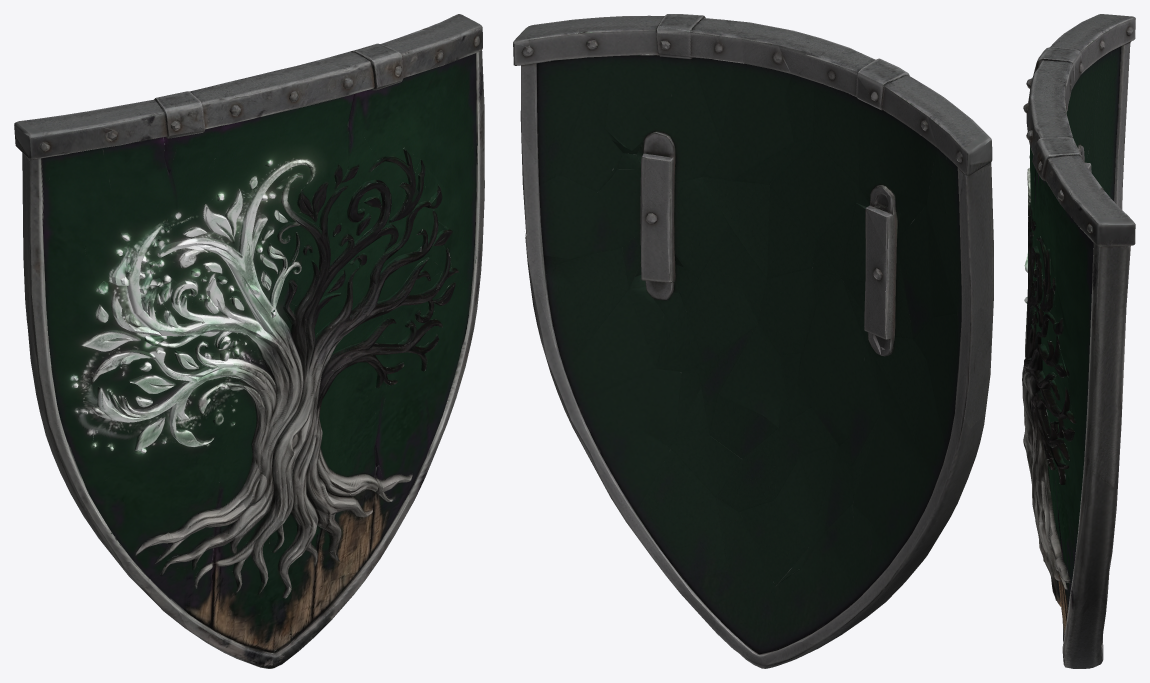
Rendered from scudo_guarnigione_sylvorn.glb.
The picture shows the model from 3 angles, left to right: view 1: azimuth 30°, elevation 25°; view 2: azimuth 150°, elevation 25°; view 3: azimuth 270°, elevation 25°; orthographic projection. The views are drawn at different scales.
Visible parts, largest first — view 1: mesh_node; view 2: mesh_node; view 3: mesh_node.
Part boxes in pixels (<box>): mesh_node: <box>14,14,484,668</box>; mesh_node: <box>513,14,993,668</box>; mesh_node: <box>1022,14,1135,668</box>.
Bounding box in the file's own units: 1.5 × 1.9 × 0.3428.
Materials: 1 (1 with a texture image).
